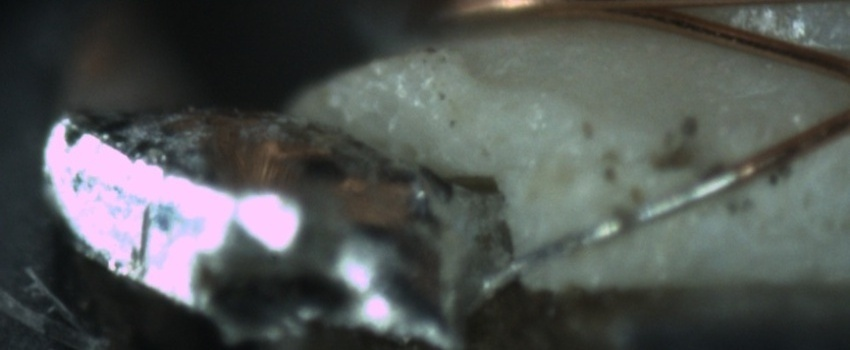TS: (471, 163, 737, 303)
TTCW: (469, 116, 797, 305)
